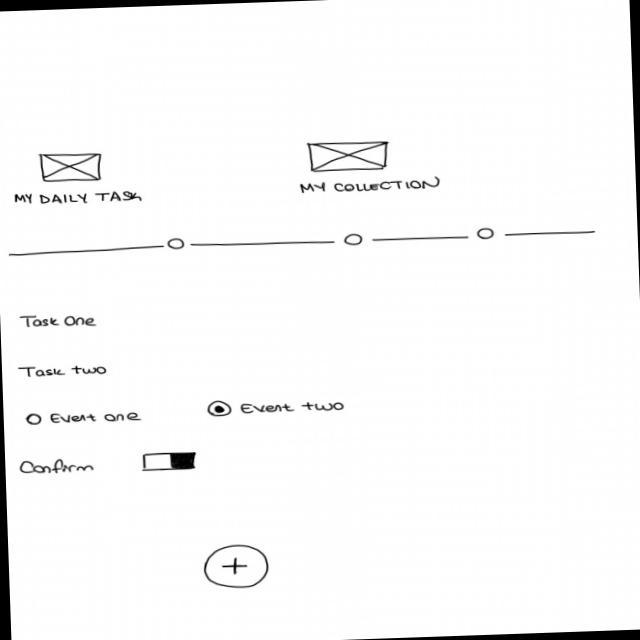icon-button: (201, 543, 272, 590)
image: (306, 140, 393, 174), (38, 151, 104, 185)
label: (12, 187, 146, 210), (299, 176, 445, 196), (18, 457, 98, 479), (17, 362, 110, 380), (17, 311, 98, 330)
radio: (205, 395, 348, 419), (24, 409, 144, 428)
toggle: (140, 451, 202, 474)
